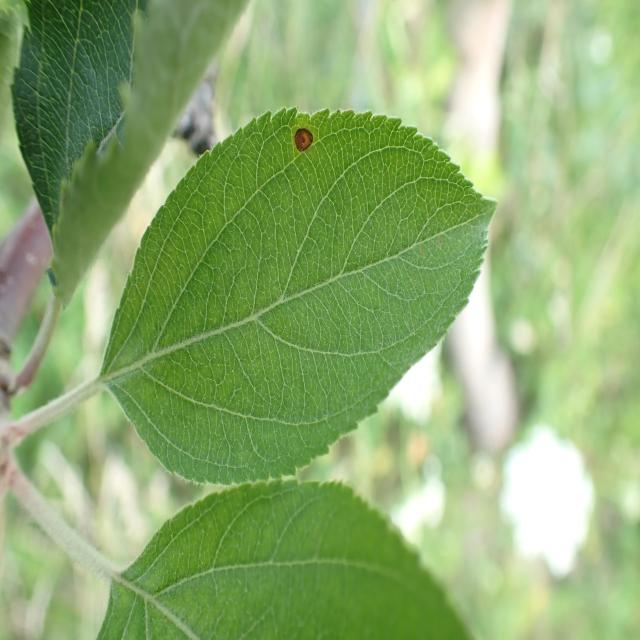Black Rot: (291, 90, 325, 192)
